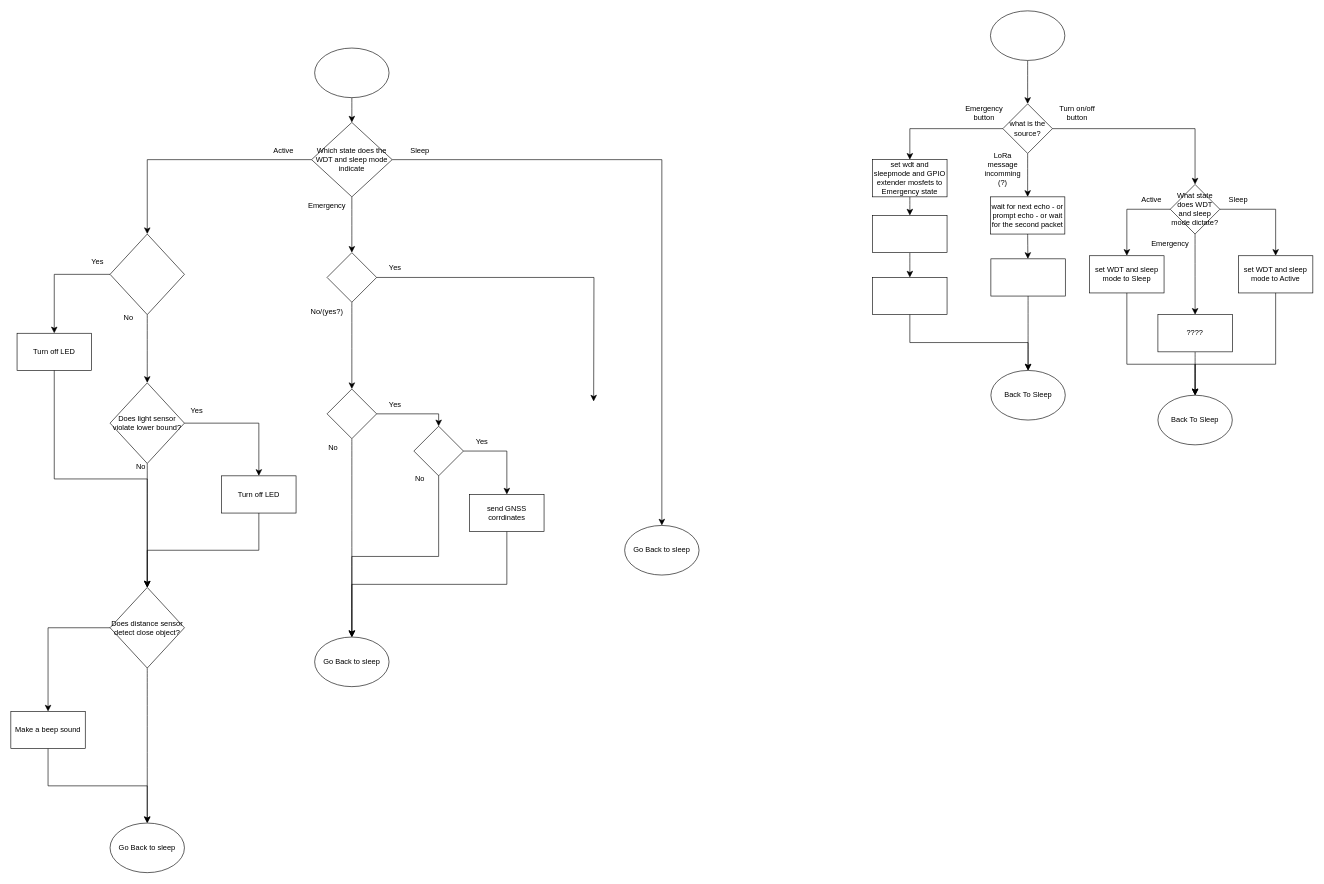
The diagram is 1324 pixels wide and 884 high, and some of its shapes have lost their labels. The shapes that lost their labels are listed below. From the top down, each one's box as (x1, y1, x2, y2) in pixels, then its label:
(990, 10, 1065, 60): Interrupt
(314, 47, 389, 98): wake up
(872, 215, 947, 253): GNSS module?
(109, 233, 184, 315): Does light sensor violate upper bound?
(326, 252, 377, 302): Any message from LoRa?
(990, 258, 1065, 296): parse and act upon packet
(872, 277, 947, 315): LoRa module?
(326, 388, 377, 439): has GNSS gotten readings?
(413, 426, 463, 476): Can we sent LoRa messages?
